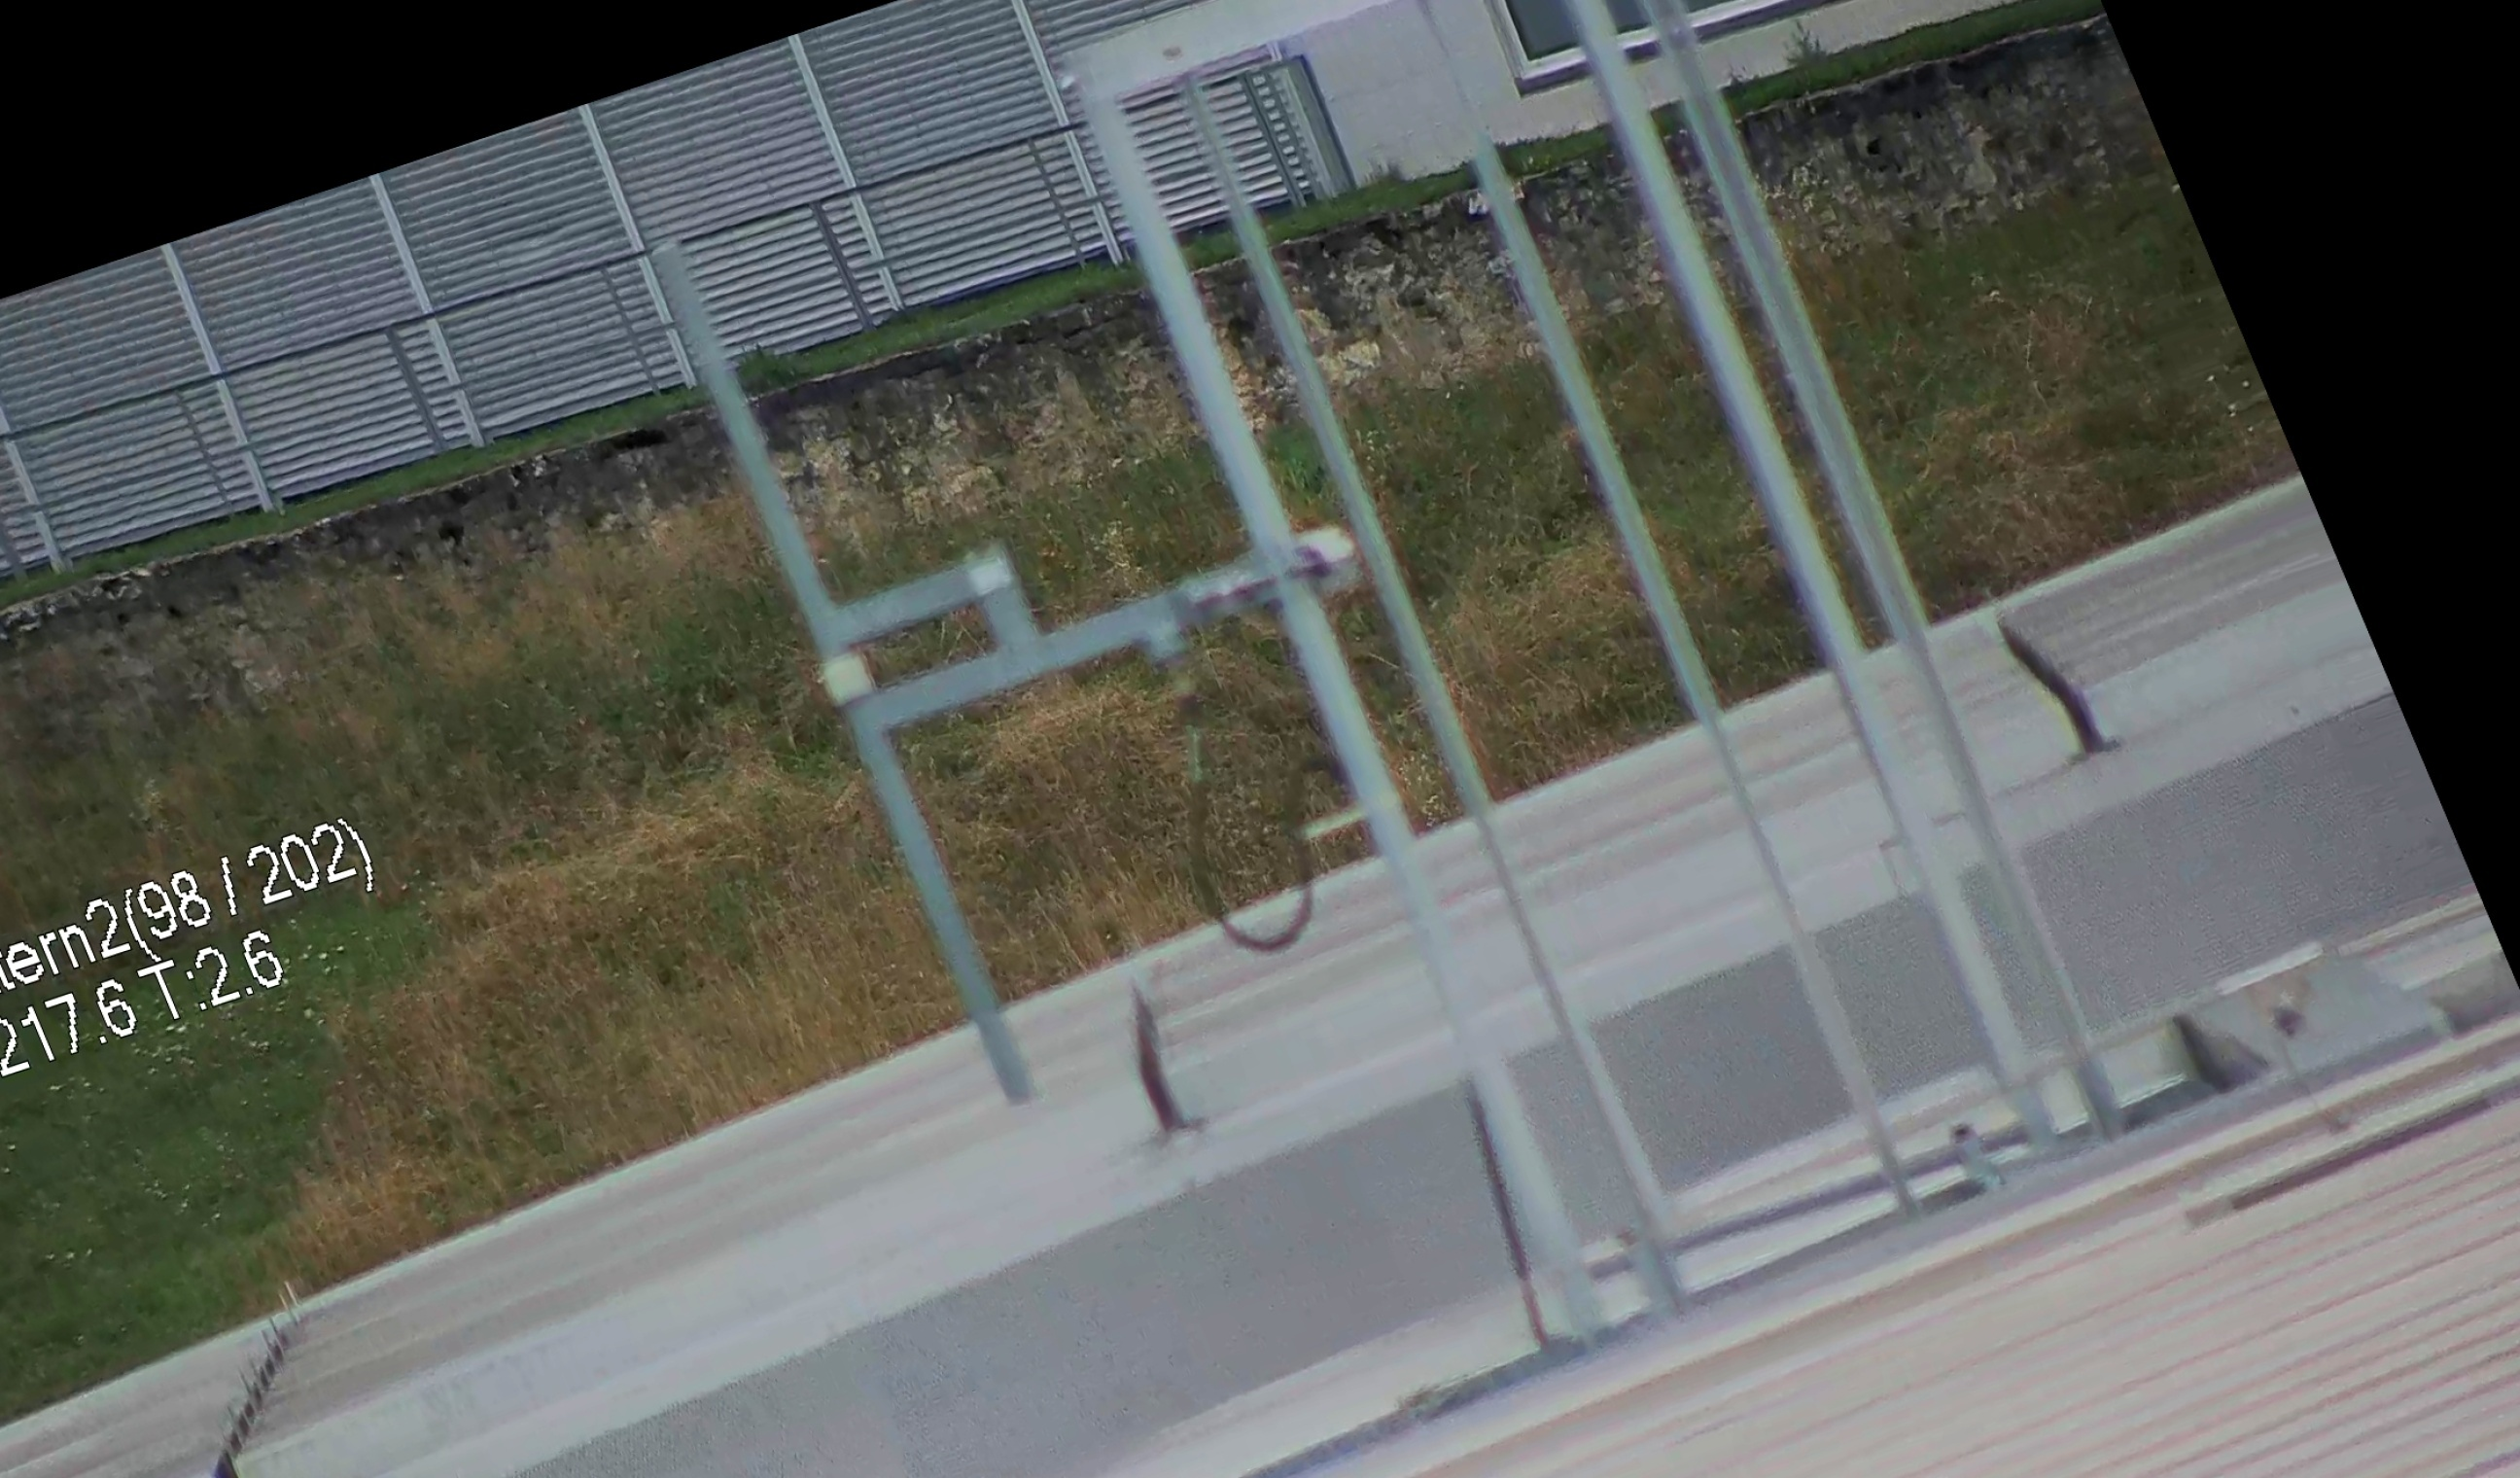Other: (1078, 954, 1220, 1147)
